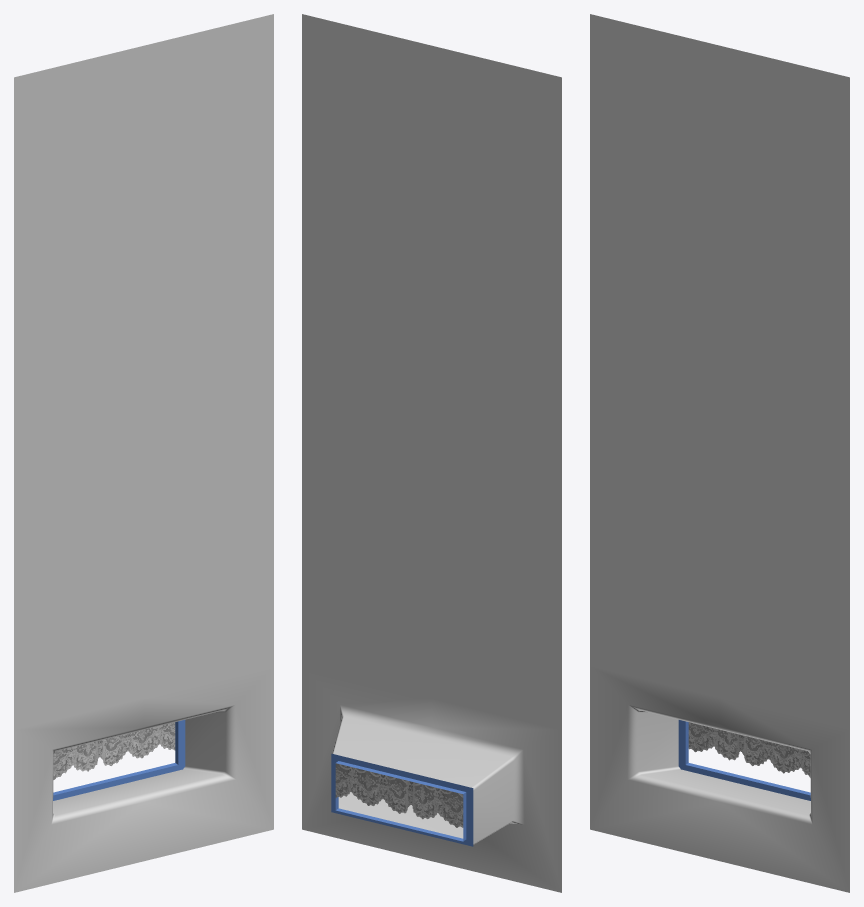
Rendered from WallSideWalkWindow.fbx.
The picture shows the model from 3 angles, left to right: view 1: azimuth 30°, elevation 25°; view 2: azimuth 150°, elevation 25°; view 3: azimuth 330°, elevation 25°; orthographic projection.
Parts seen in each view (by area): view 1: WallSideWalkWindow; view 2: WallSideWalkWindow; view 3: WallSideWalkWindow.
Boxes of the visible parts, x1,y1,x2,y2 form: WallSideWalkWindow: (14, 14, 273, 892); WallSideWalkWindow: (302, 14, 561, 892); WallSideWalkWindow: (590, 14, 849, 892).
Bounding box in the file's own units: 100 × 300 × 21.73.
Materials: 3 (2 with a texture image).
